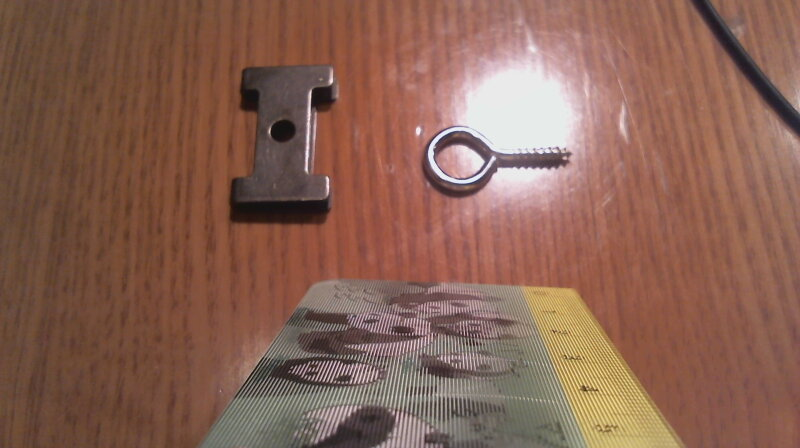O001: (417, 123, 576, 195)
O002: (224, 60, 338, 225)
